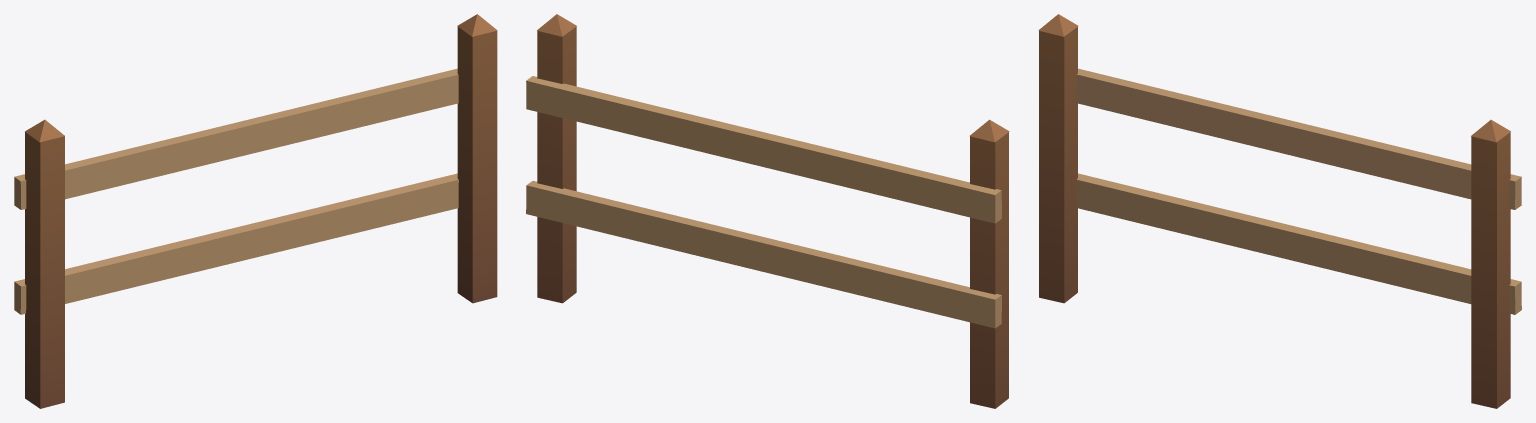
Rendered from fence_wood.glb.
3 views of the same model, side by side, from view 1: azimuth 30°, elevation 25°; view 2: azimuth 150°, elevation 25°; view 3: azimuth 330°, elevation 25° (orthographic).
Parts seen in each view (by area): view 1: fence_wood; view 2: fence_wood; view 3: fence_wood.
Part boxes in pixels (left/top/right/bottom): fence_wood: left=14, top=14, right=497, bottom=408; fence_wood: left=526, top=14, right=1009, bottom=408; fence_wood: left=1038, top=14, right=1521, bottom=408.
Size of the model in its own units: 2.06 by 1.18 by 0.1526.
